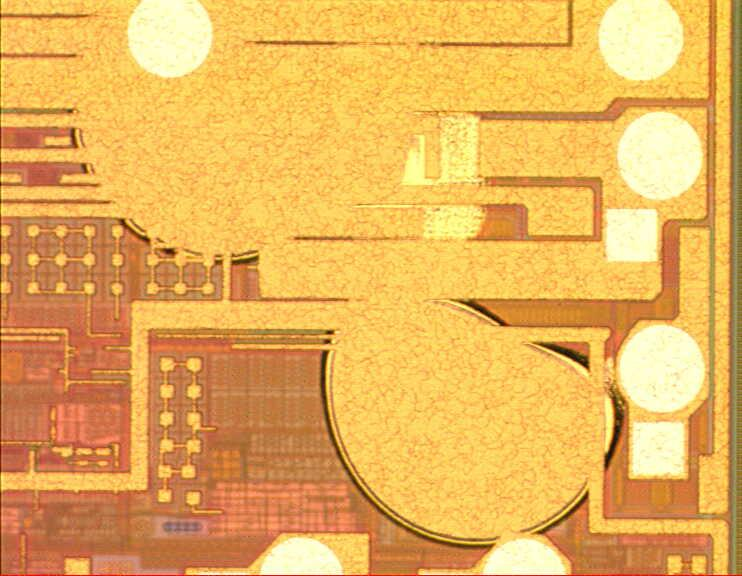BLOCK ETCH: (69, 27, 628, 549)
